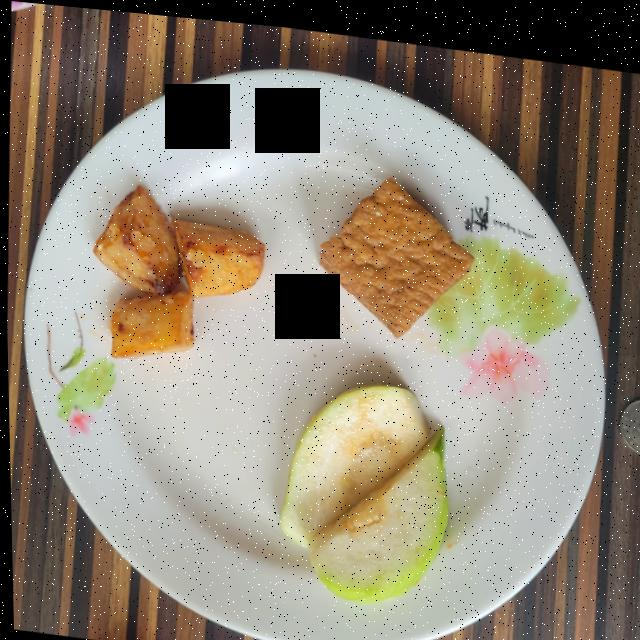coin: (618, 385, 640, 440)
egg tofu: (318, 169, 473, 329)
fried potato: (92, 182, 263, 355)
guava -sliced-: (279, 376, 445, 595)
